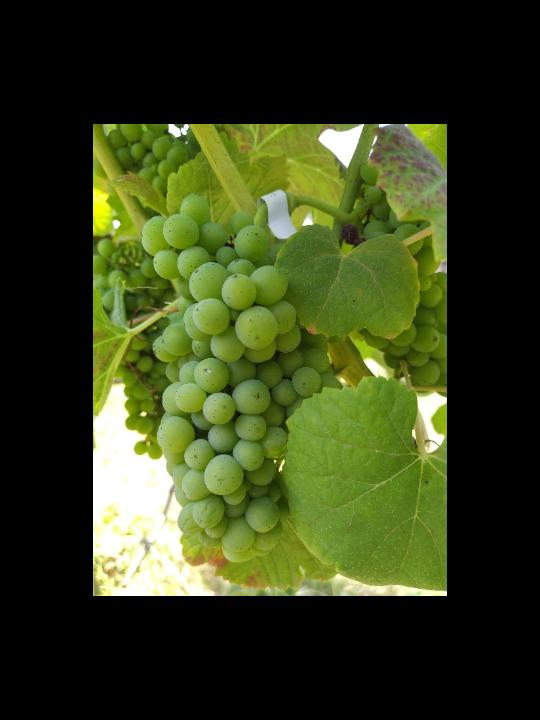grape: (140, 192, 347, 564)
